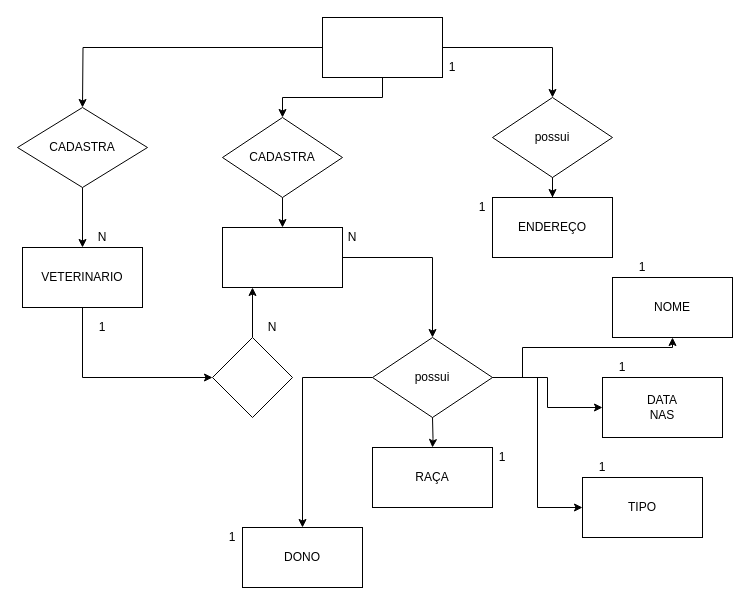
This 750x605 diagram has some shape labels left out. Here are the shapes that lost their labels. From the top down, the box of each, then its label:
(322, 16, 442, 78): CLINICA
(222, 226, 342, 288): PET
(212, 336, 292, 418): ATENDE
